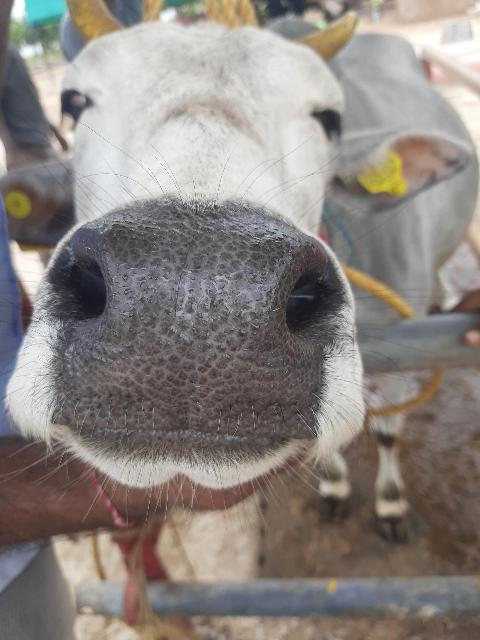Muzzle: (77, 220, 314, 440)
